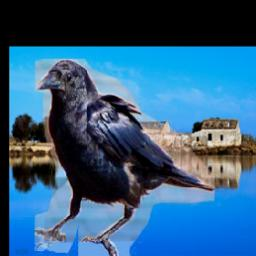Crow: (35, 59, 214, 256)
